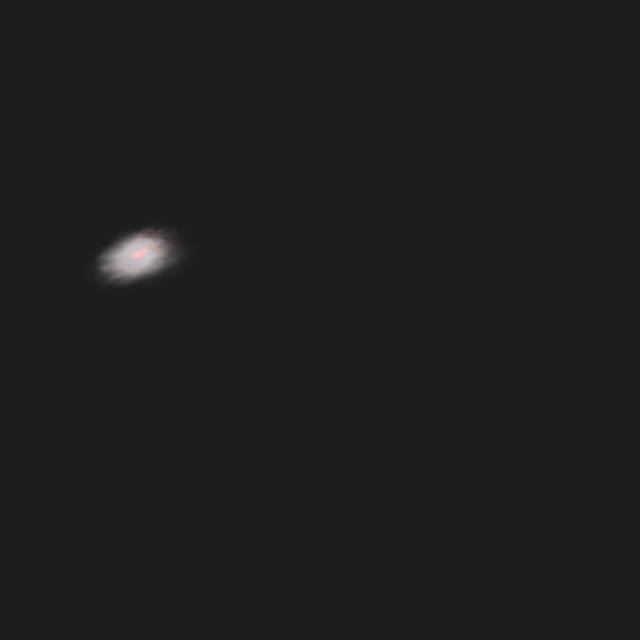fire: (128, 247, 148, 260)
smoke: (85, 218, 185, 296)
